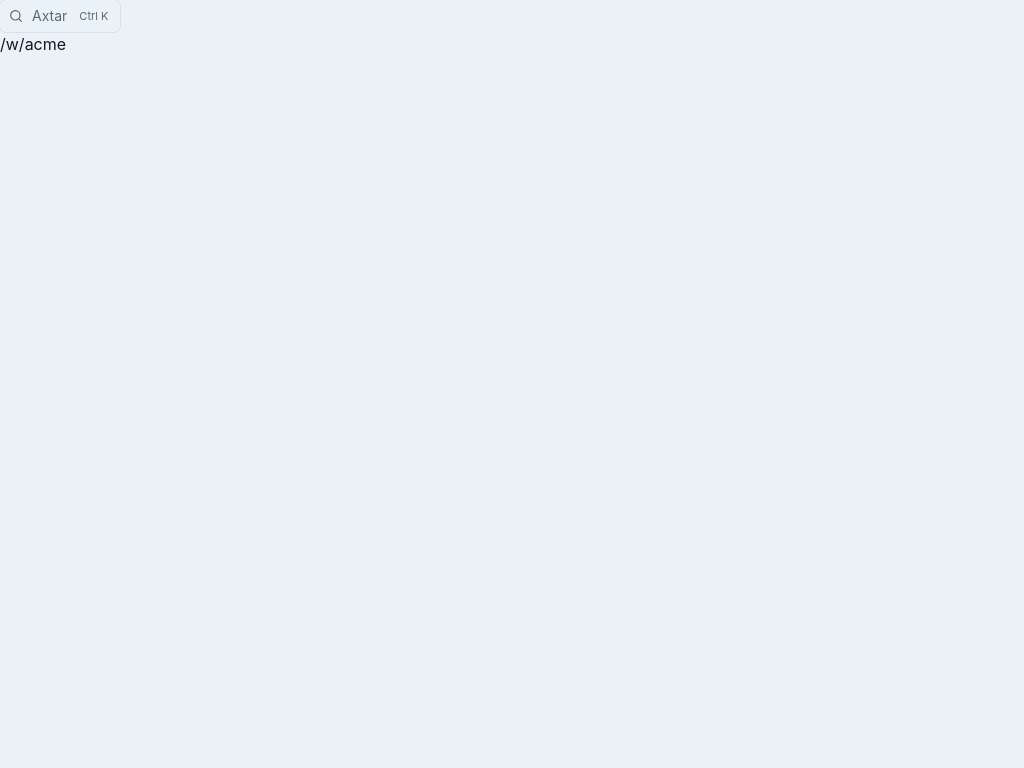
Test: GlobalSearch › opens with Ctrl+K, groups results, navigates with the keyboard and opens the item
Press k
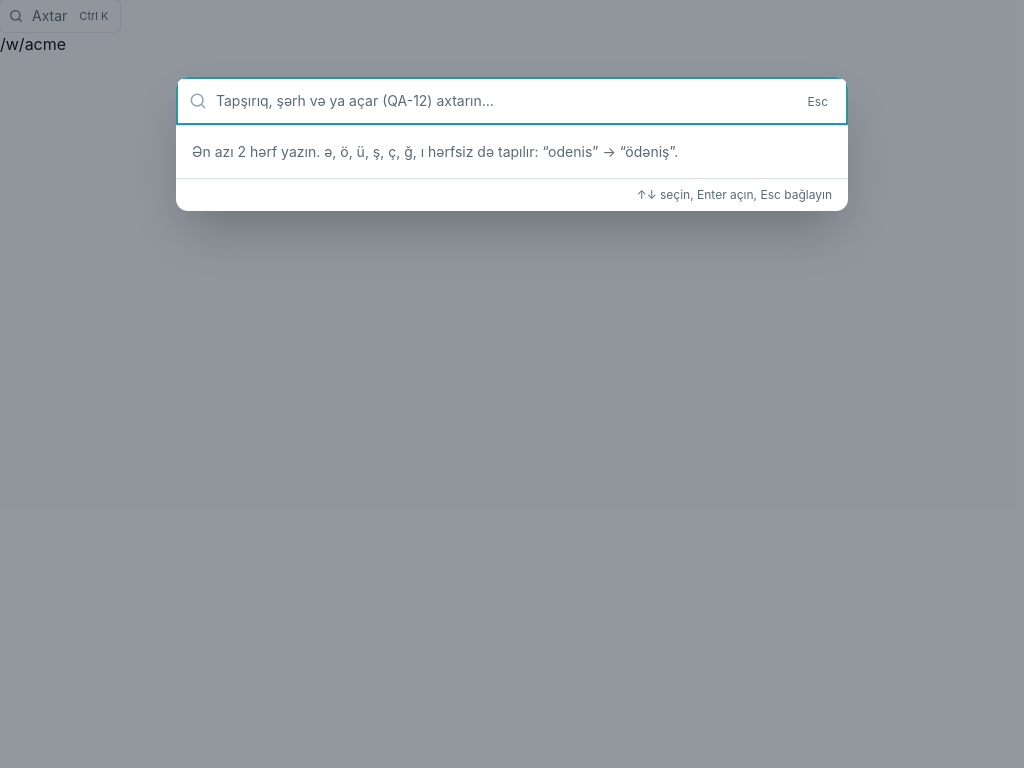
Now the text "Ən azı 2 hərf" is shown, box 192,143 -> 678,160
Type "odenis" into the dropdown with placeholder "Tapşırıq, şərh və ya açar (QA-12) axtarın…" at (504,101), box 216,77 -> 792,125
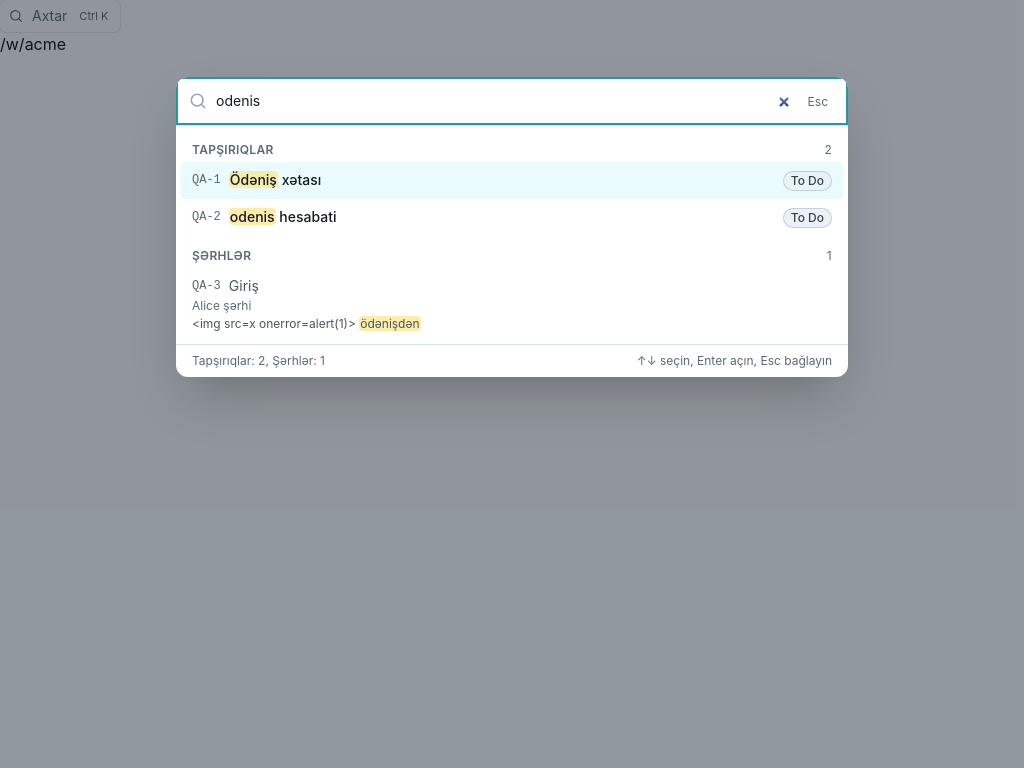
Now the text "Ödəniş" is shown, box 229,171 -> 278,188
Now the option that starts with "QA-3" shows "Alice şərhi", box 192,277 -> 421,331
Press ArrowDown in the dropdown named "Axtarış sorğusu", box 216,77 -> 792,125
Press ArrowDown in the dropdown named "Axtarış sorğusu", box 216,77 -> 792,125
Press ArrowDown in the dropdown named "Axtarış sorğusu", box 216,77 -> 792,125
Press ArrowUp in the dropdown named "Axtarış sorğusu", box 216,77 -> 792,125
Press Enter in the dropdown named "Axtarış sorğusu", box 216,77 -> 792,125
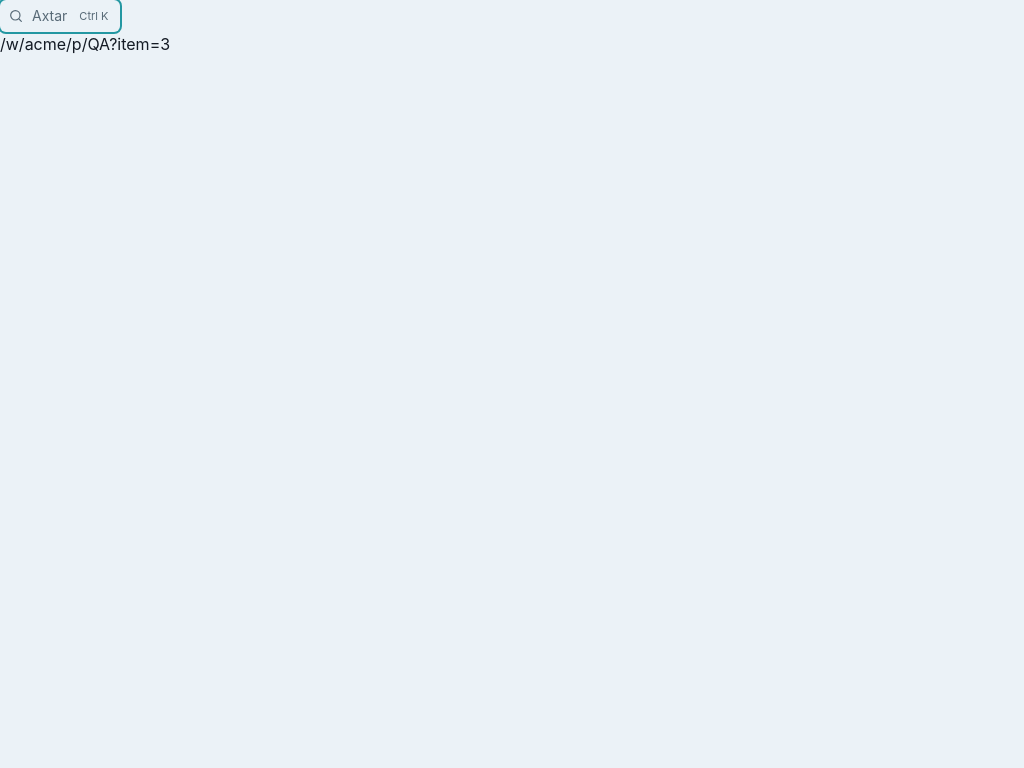
Now the text with test id "where" reads "/w/acme/p/QA?item=3", box 0,34 -> 170,54
Now the dropdown is gone
